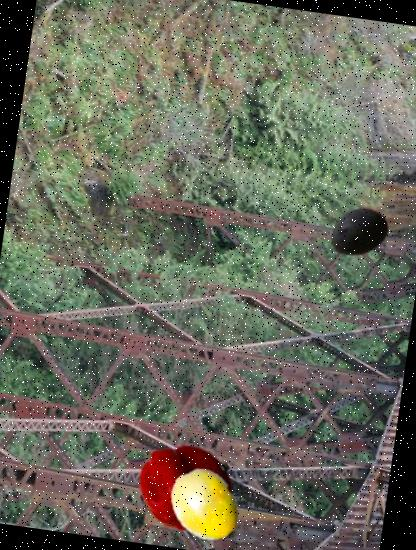Maracuja: (162, 462, 248, 548)
Pepper: (134, 432, 238, 537)
Plum: (324, 198, 392, 266)
